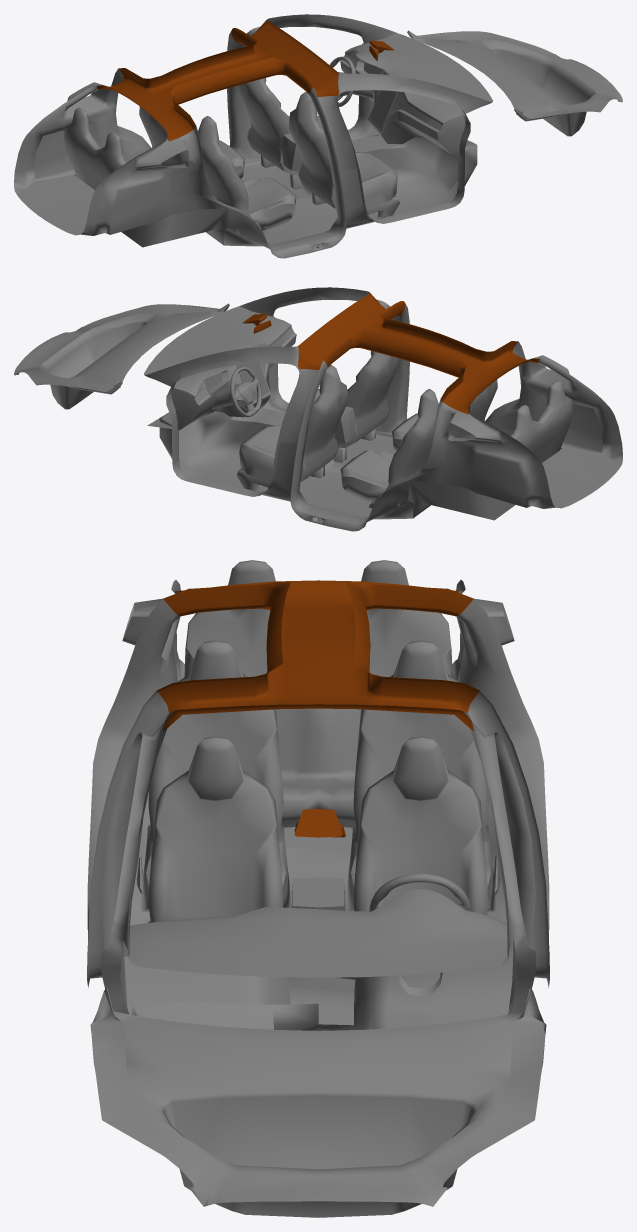
The model's file is Interior_6_Seater.obj.
The picture shows the model from 3 angles, top to bottom: view 1: azimuth 30°, elevation 25°; view 2: azimuth 150°, elevation 25°; view 3: azimuth 270°, elevation 25°; orthographic projection. The views are drawn at different scales.
Visible parts, largest first — view 1: Interior_6_Seater; view 2: Interior_6_Seater; view 3: Interior_6_Seater.
Part boxes in pixels (left/top/right/bottom): Interior_6_Seater: left=14, top=14, right=622, bottom=258; Interior_6_Seater: left=14, top=287, right=622, bottom=531; Interior_6_Seater: left=87, top=560, right=549, bottom=1217.
Size of the model in its own units: 4.9 by 1.31 by 1.75.
